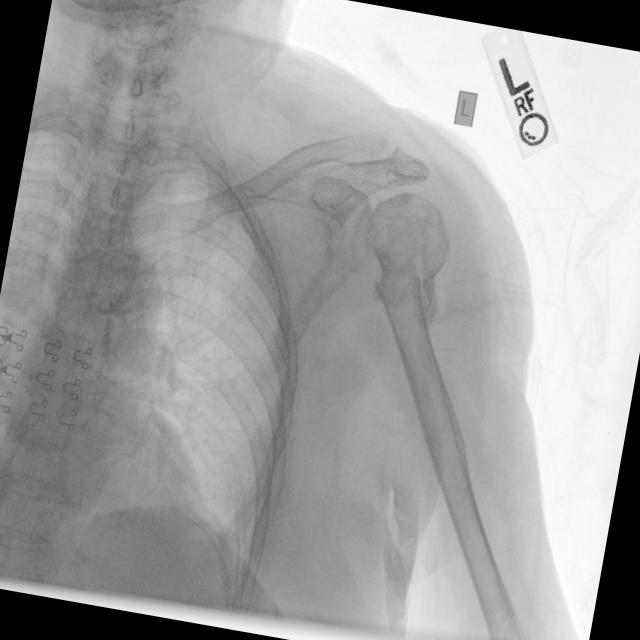shoulder fracture: (351, 202, 497, 369)
